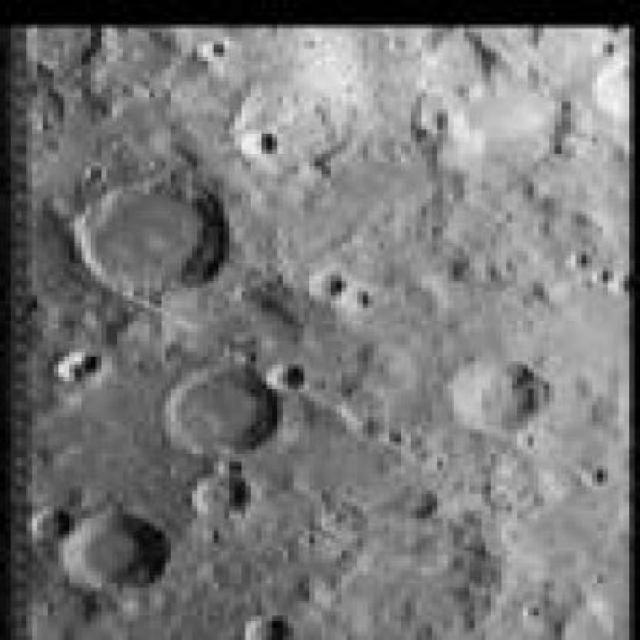crater: (76, 181, 224, 299), (56, 512, 170, 602), (163, 369, 283, 453), (450, 360, 552, 437)
